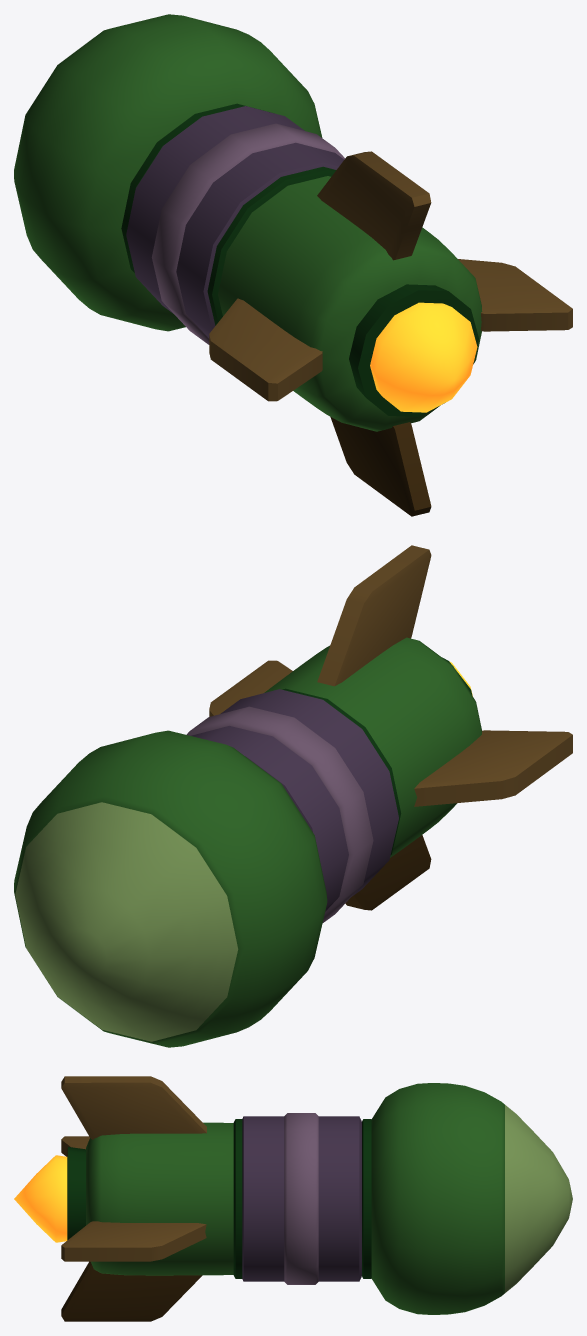
Rendered from shot_hmissile_green_p.glb.
The picture shows the model from 3 angles, top to bottom: view 1: azimuth 30°, elevation 25°; view 2: azimuth 150°, elevation 25°; view 3: azimuth 270°, elevation 25°; orthographic projection. The views are drawn at different scales.
Parts seen in each view (by area): view 1: hp_head0, hp_tail0, hp_band, hp_flame, hp_band_bright, hp_fin.001, hp_fin.002, hp_fin.003, hp_fin, hp_nozzle, hp_band_seam, hp_band_seam2; view 2: hp_head1, hp_head0, hp_tail0, hp_band, hp_fin.001, hp_fin.002, hp_band_bright, hp_fin.003, hp_fin, hp_band_seam; view 3: hp_head0, hp_tail0, hp_band, hp_head1, hp_fin.001, hp_band_bright, hp_fin.003, hp_fin, hp_flame, hp_nozzle, hp_band_seam2, hp_band_seam (+1 smaller).
Part boxes in pixels (x1,y1,x2,y2): hp_head0: [14, 14, 322, 331]; hp_tail0: [218, 176, 482, 431]; hp_band: [126, 106, 343, 338]; hp_flame: [370, 302, 477, 412]; hp_band_bright: [151, 123, 344, 344]; hp_fin.001: [317, 151, 431, 260]; hp_fin.002: [209, 298, 322, 401]; hp_fin.003: [330, 417, 431, 516]; hp_fin: [458, 259, 572, 331]; hp_nozzle: [349, 284, 478, 416]; hp_band_seam: [207, 166, 336, 325]; hp_band_seam2: [121, 103, 269, 272]; hp_head1: [15, 802, 238, 1041]; hp_head0: [14, 730, 327, 1047]; hp_tail0: [264, 637, 481, 857]; hp_band: [191, 689, 398, 911]; hp_fin.001: [317, 545, 431, 686]; hp_fin.002: [414, 730, 572, 806]; hp_band_bright: [186, 706, 373, 922]; hp_fin.003: [345, 835, 431, 910]; hp_fin: [209, 660, 292, 716]; hp_band_seam: [282, 688, 401, 854]; hp_head0: [371, 1083, 504, 1314]; hp_tail0: [86, 1122, 233, 1275]; hp_band: [242, 1116, 361, 1281]; hp_head1: [505, 1105, 572, 1292]; hp_fin.001: [61, 1076, 206, 1139]; hp_band_bright: [284, 1113, 318, 1284]; hp_fin.003: [61, 1261, 202, 1321]; hp_fin: [61, 1221, 206, 1261]; hp_flame: [14, 1155, 67, 1242]; hp_nozzle: [67, 1147, 85, 1239]; hp_band_seam2: [362, 1119, 371, 1278]; hp_band_seam: [233, 1119, 242, 1278].
Bounding box in the file's own units: 6.6 × 6.6 × 14.
